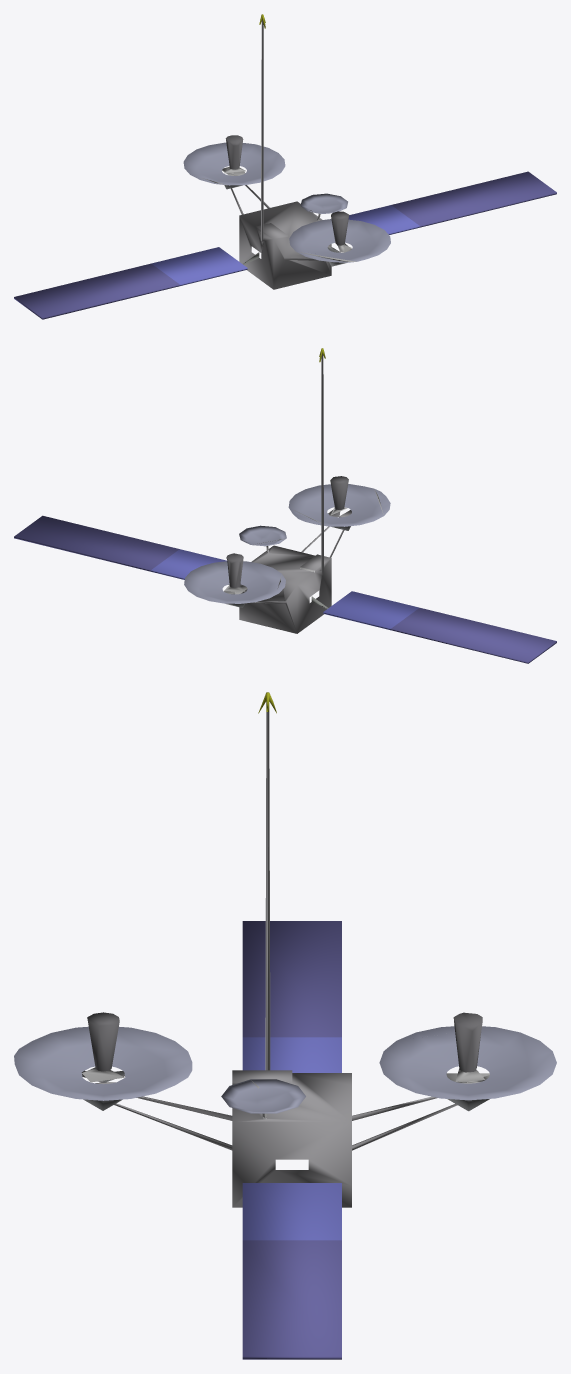
Rendered from tdrs.glb.
3 renders of one model, top to bottom at view 1: azimuth 30°, elevation 25°; view 2: azimuth 150°, elevation 25°; view 3: azimuth 270°, elevation 25°, orthographic. The views are drawn at different scales.
Parts seen in each view (by area): view 1: polySurface5, transform8; view 2: polySurface5, transform8; view 3: polySurface5, transform8.
Boxes of the visible parts, x1,y1,x2,y2 form: polySurface5: [14, 14, 556, 319]; transform8: [202, 166, 356, 264]; polySurface5: [14, 348, 556, 663]; transform8: [224, 489, 383, 608]; polySurface5: [14, 692, 556, 1359]; transform8: [82, 1067, 489, 1117].
Bounding box in the file's own units: 0.8866 × 0.4489 × 0.4673.
Materials: 3 (3 with a texture image).
